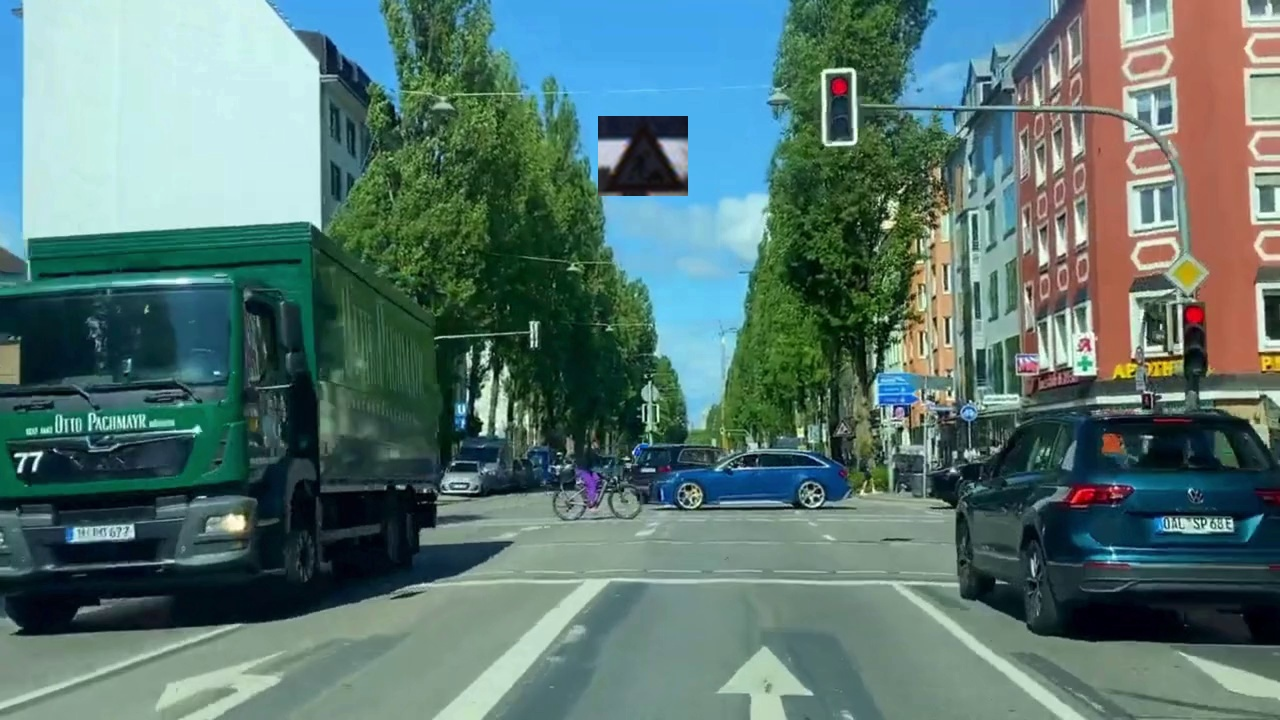Road work: (598, 116, 688, 196)
